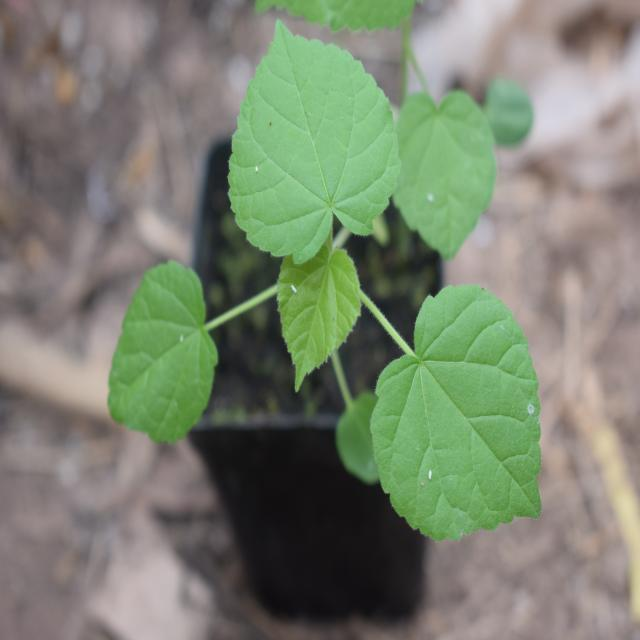abutilon theophrasti: (127, 62, 539, 555)
